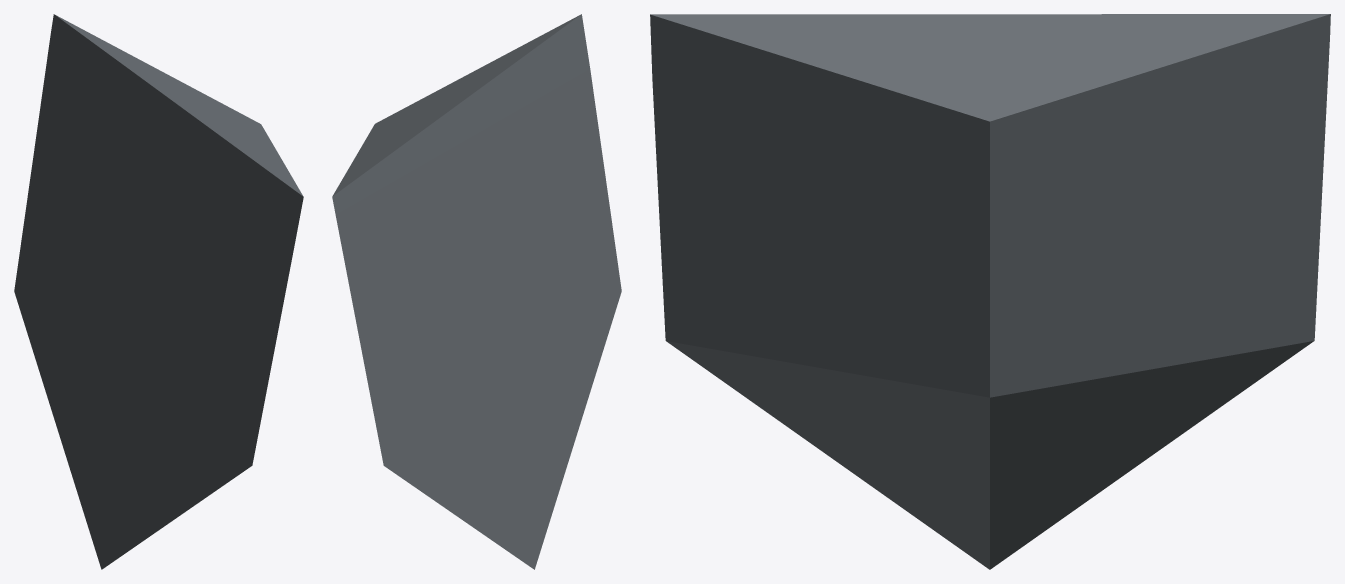
The model's file is Sphere_Fracture_05.DAE.
3 renders of one model, left to right at view 1: azimuth 30°, elevation 25°; view 2: azimuth 150°, elevation 25°; view 3: azimuth 270°, elevation 25°, orthographic. The views are drawn at different scales.
Visible parts, largest first — view 1: Sphere_Fracture_05; view 2: Sphere_Fracture_05; view 3: Sphere_Fracture_05.
Part boxes in pixels (x1,y1,x2,y2): Sphere_Fracture_05: (14,14,303,569); Sphere_Fracture_05: (332,14,621,569); Sphere_Fracture_05: (650,14,1330,569).
Bounding box in the file's own units: 0.1688 × 0.4502 × 0.4573.
2 materials, 2 textured.
